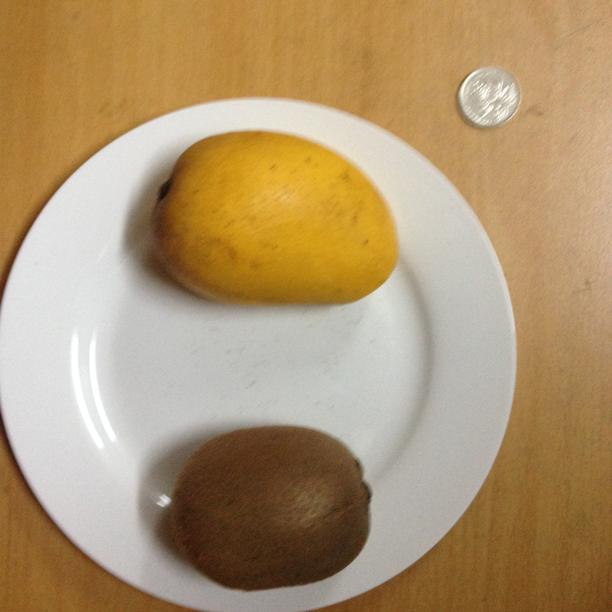coin: (459, 65, 520, 127)
mango: (155, 136, 398, 303)
qiwi: (178, 424, 369, 592)
